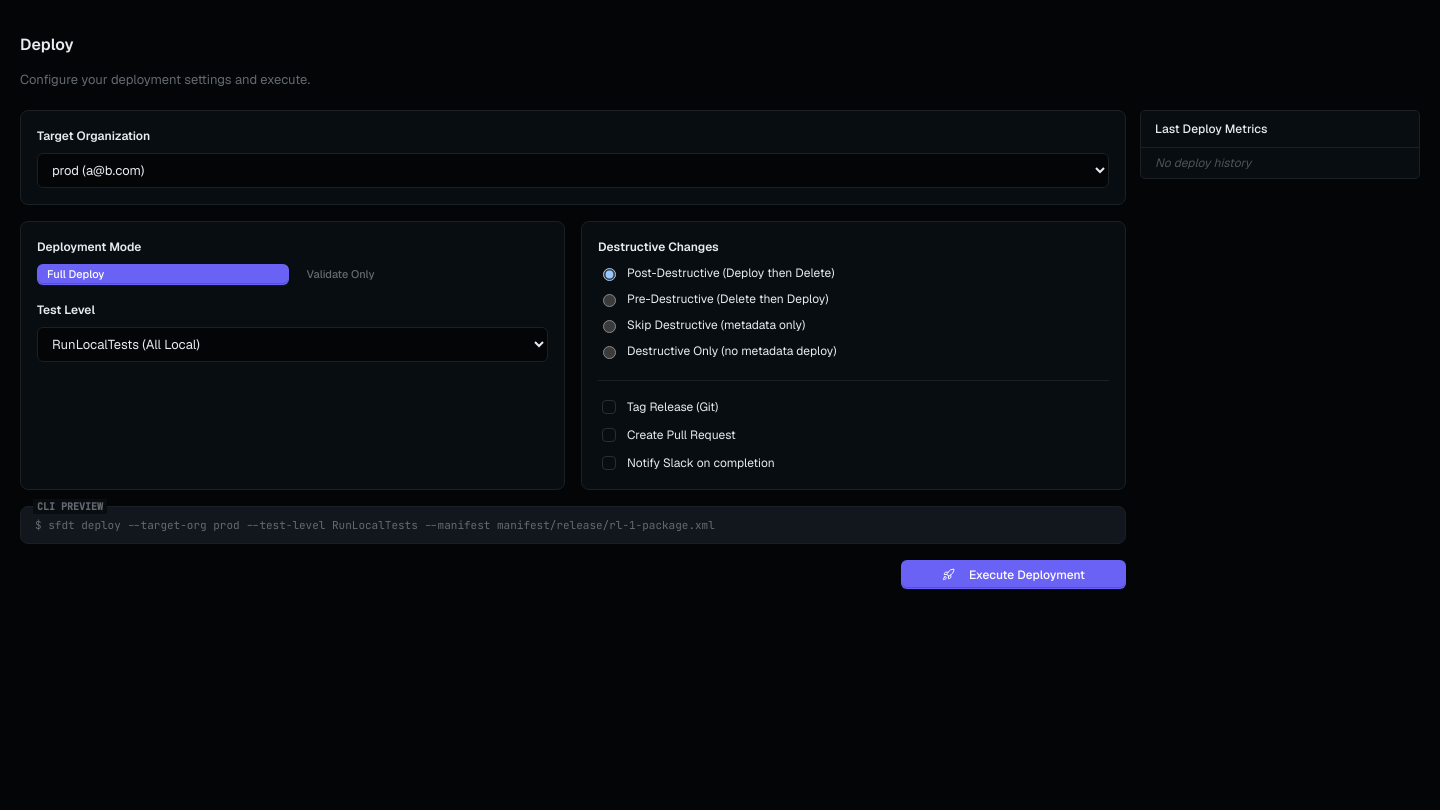
it: DeployStep validation banner › renders the banner with the job id once the run completes successfully
The width and height of the screenshot is (1440, 810).
Click the button "Validate Only". click: (422, 274)
box: [296, 264, 548, 285]
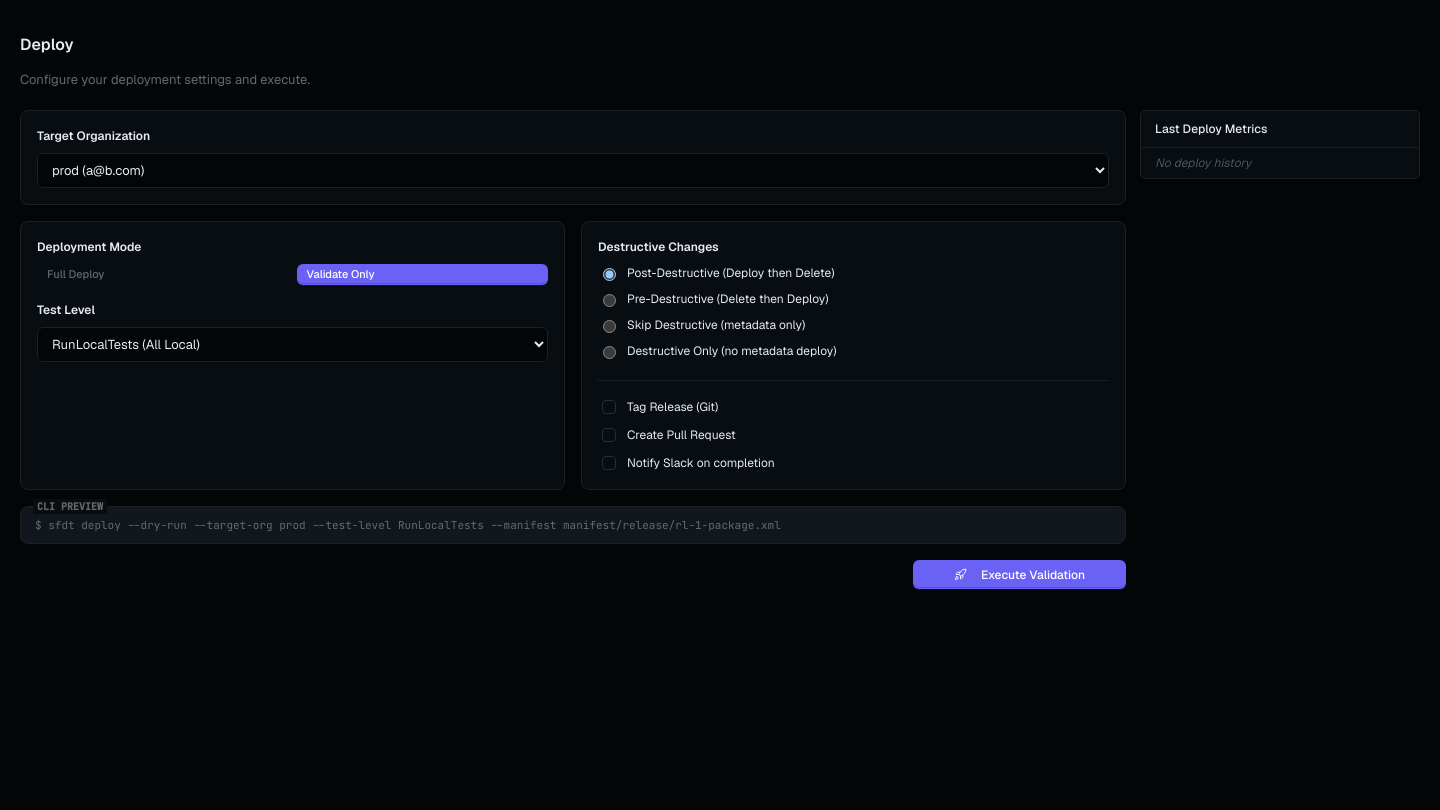
Click the button "Execute Validation". click: (1020, 575)
box: [913, 560, 1126, 589]
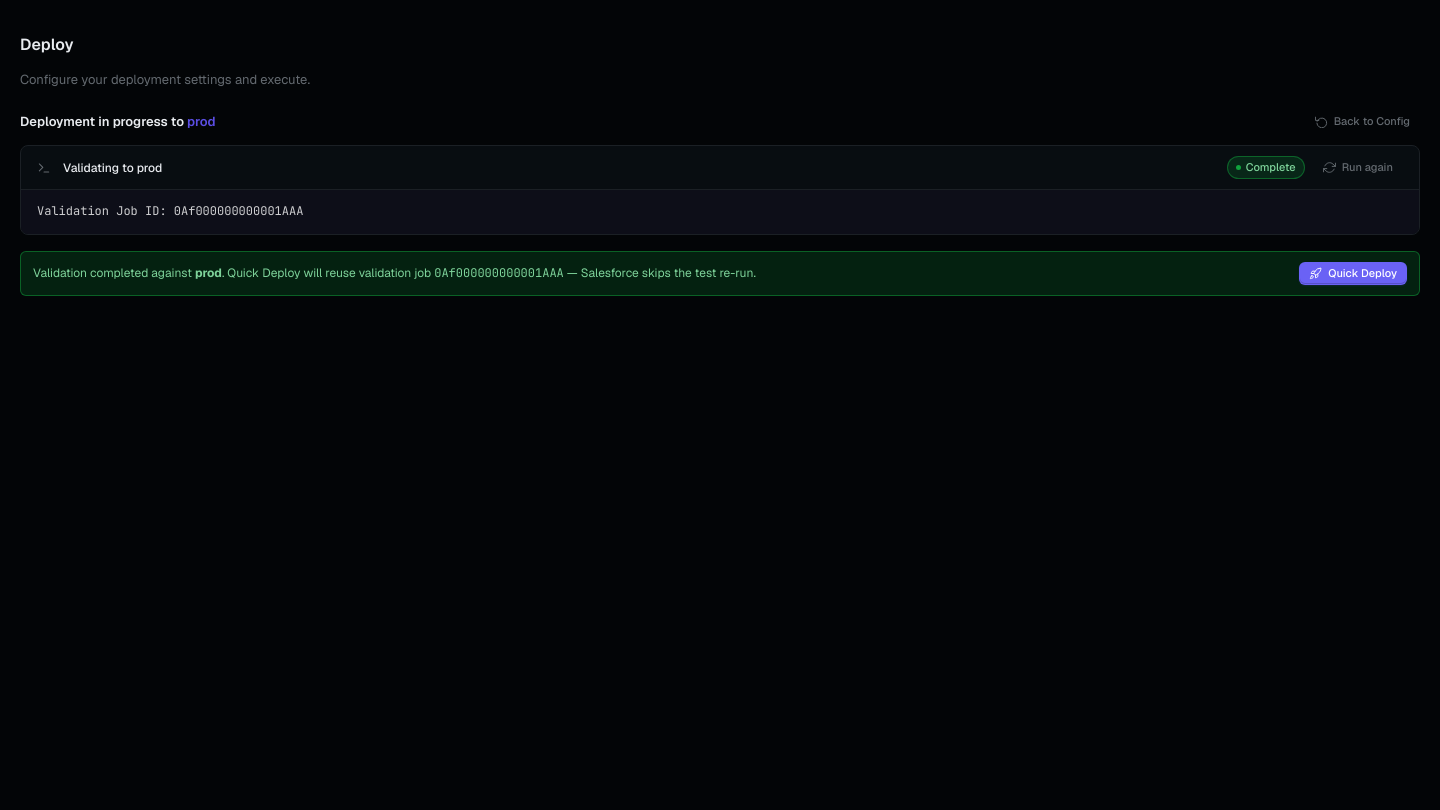
Expected: the text "Validation completed against" is shown, [33, 265, 195, 281]
Expected: the text "0Af000000000001AAA" is shown, [434, 265, 564, 281]
